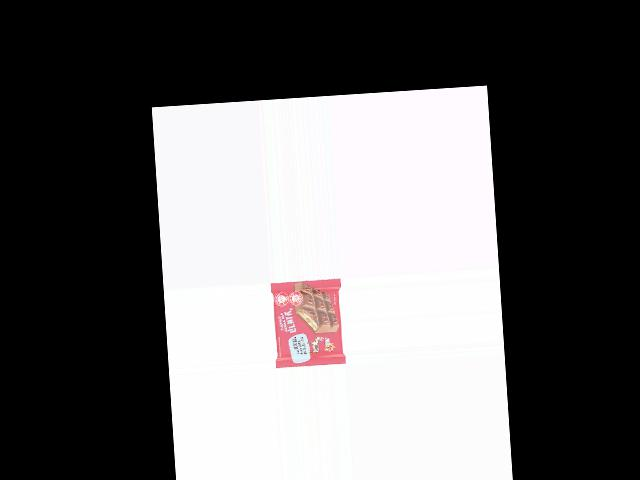chocolate: (269, 279, 344, 365)
